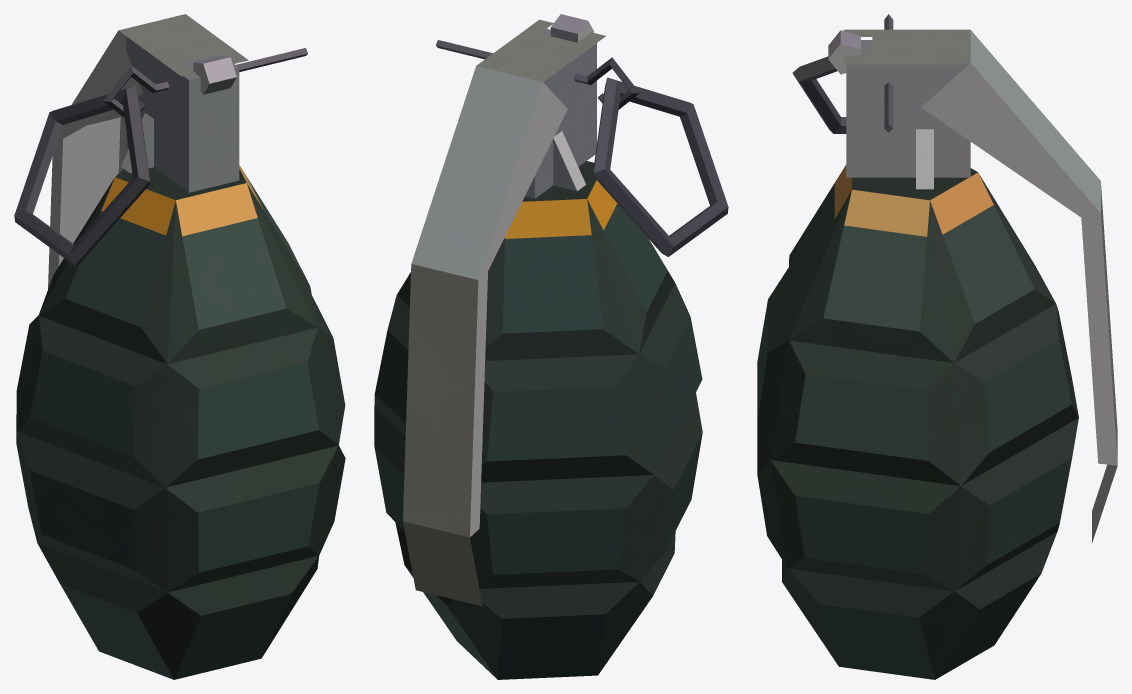
File: grenade.glb
3 views of the same model, side by side, from view 1: azimuth 30°, elevation 25°; view 2: azimuth 150°, elevation 25°; view 3: azimuth 270°, elevation 25° (orthographic).
Parts seen in each view (by area): view 1: grenade; view 2: grenade; view 3: grenade.
Part boxes in pixels (bbox=[...]): grenade: bbox=[14, 14, 345, 679]; grenade: bbox=[374, 14, 728, 679]; grenade: bbox=[757, 14, 1117, 679].
Size of the model in its own units: 0.0895 by 0.1768 by 0.0949.
Materials: 1 (1 with a texture image).
